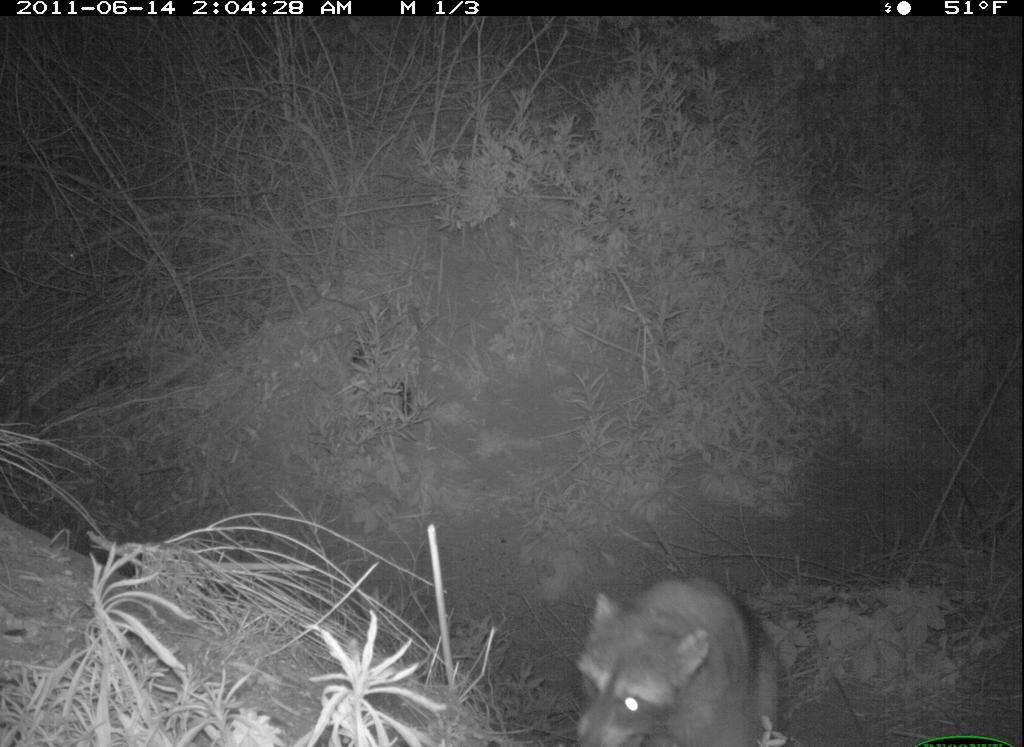raccoon: (569, 568, 799, 747)
